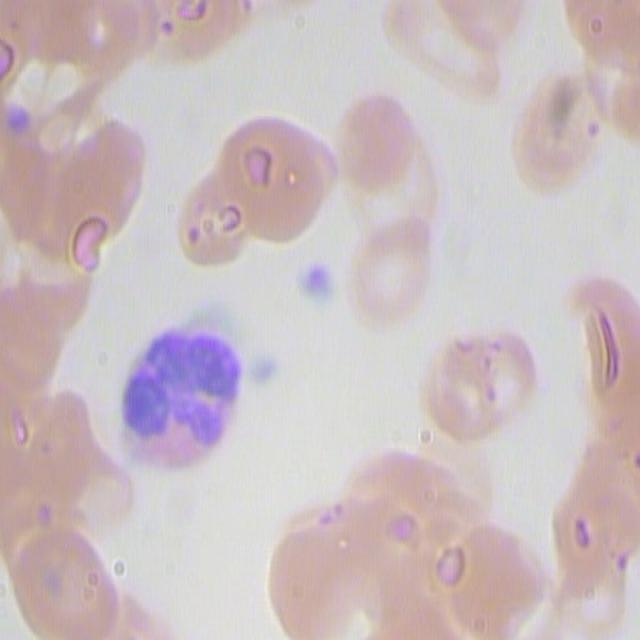RBC: (1, 84, 134, 310), (224, 100, 336, 247), (326, 84, 445, 217), (422, 321, 547, 446), (253, 514, 361, 640), (375, 0, 516, 96), (9, 523, 125, 638), (344, 447, 459, 563), (549, 444, 640, 589), (561, 282, 640, 442), (511, 76, 599, 203), (449, 515, 539, 634), (127, 0, 249, 73), (573, 1, 640, 131), (178, 161, 258, 269)
WBC: (119, 314, 242, 504)
platelets: (294, 255, 340, 315), (243, 349, 283, 392)
